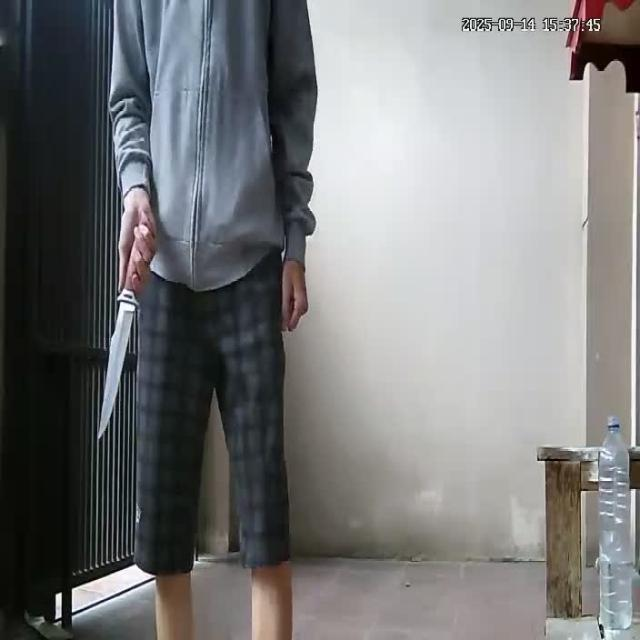senjata_tajam: (94, 286, 140, 444)
